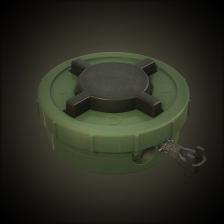PMN2: (39, 43, 210, 191)
